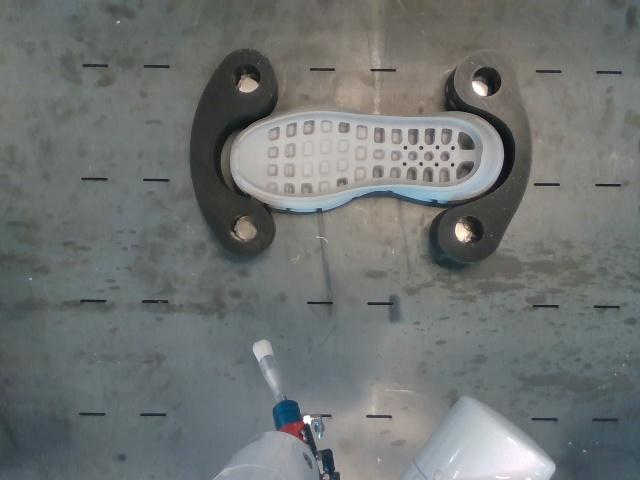shoes: (236, 113, 484, 197)
